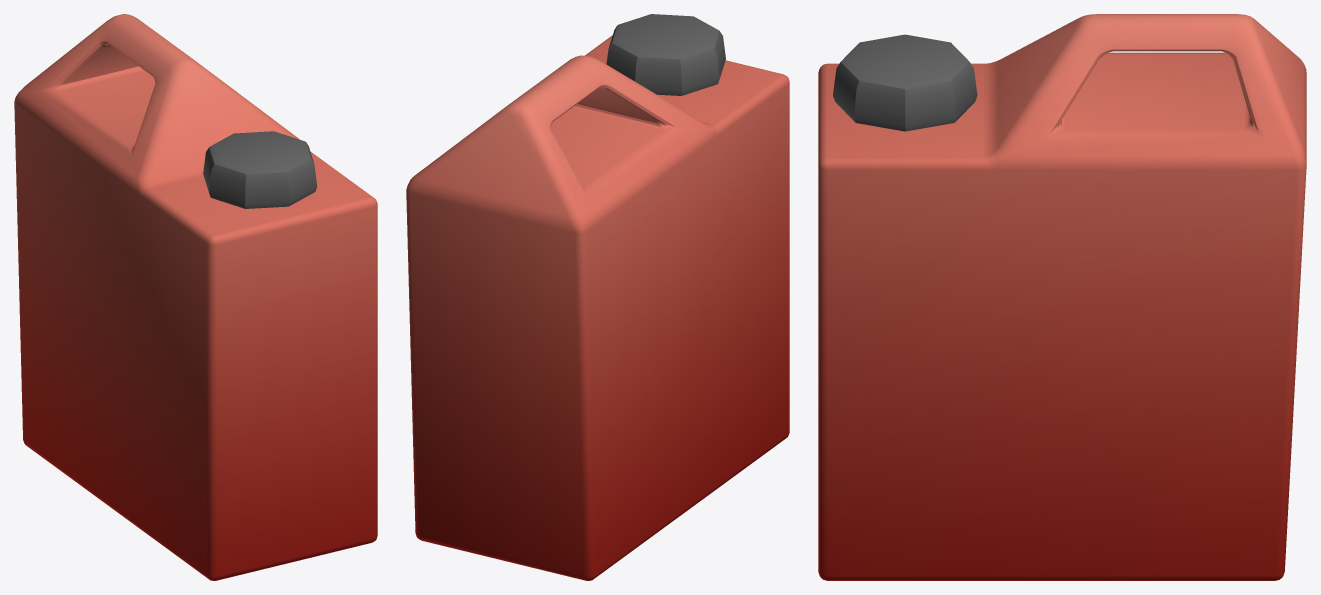
Rendered from Fuel.fbx.
3 renders of one model, left to right at view 1: azimuth 30°, elevation 25°; view 2: azimuth 150°, elevation 25°; view 3: azimuth 270°, elevation 25°, orthographic. The views are drawn at different scales.
Visible parts, largest first — view 1: Fuel; view 2: Fuel; view 3: Fuel.
Part boxes in pixels (left/top/right/bottom): Fuel: left=14, top=14, right=377, bottom=580; Fuel: left=406, top=14, right=789, bottom=580; Fuel: left=818, top=14, right=1306, bottom=580.
Size of the model in its own units: 0.2742 by 0.5587 by 0.6524.
